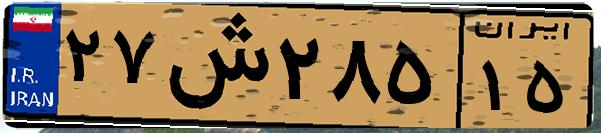1: (475, 38, 525, 113)
2: (270, 28, 330, 110), (57, 26, 110, 100)
5: (385, 28, 445, 110), (525, 38, 570, 115)
7: (110, 28, 158, 98)
8: (330, 28, 385, 110)
ش: (158, 12, 270, 120)
